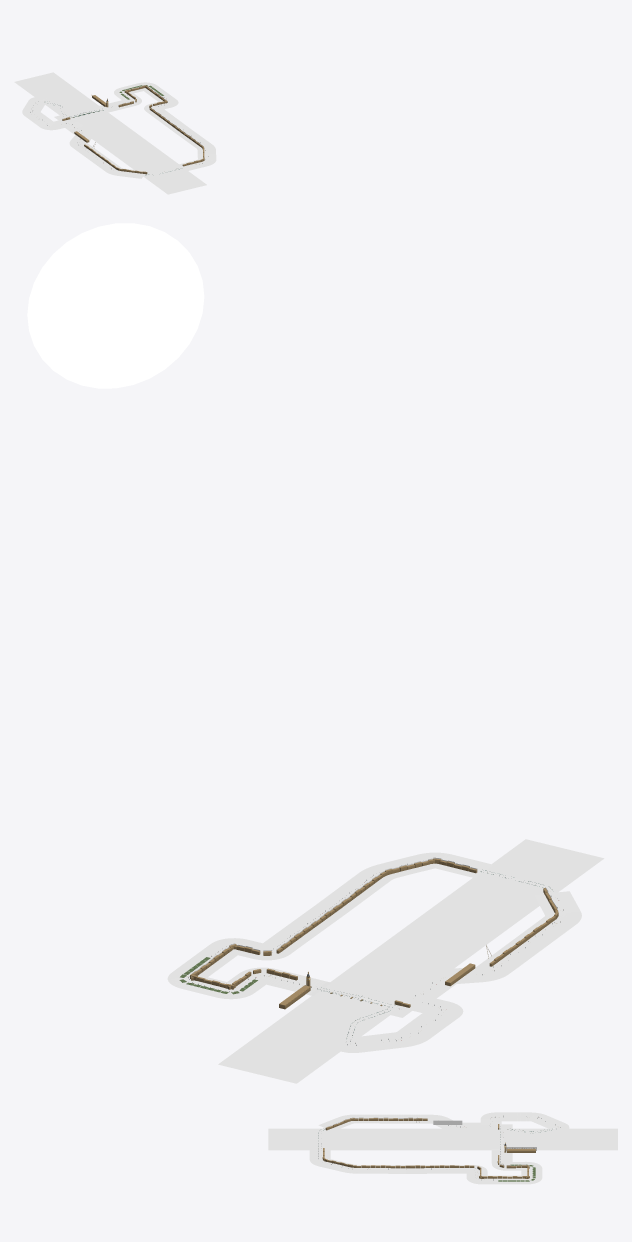
Rendered from westminster.glb.
3 renders of one model, top to bottom at view 1: azimuth 30°, elevation 25°; view 2: azimuth 150°, elevation 25°; view 3: azimuth 270°, elevation 25°, orthographic. The views are drawn at different scales.
Visible parts, largest first — view 1: ThamesWater_025, ThamesWater_014, ThamesWater_015, ThamesWater_001, ThamesWater_026, ThamesWater_020, ThamesWater_018, ThamesWater_021, Land_001; view 2: Sun, ThamesWater_025, ThamesWater_014, ThamesWater_015, ThamesWater_001, ThamesWater_026, ThamesWater_020, ThamesWater_018; view 3: ThamesWater_025, ThamesWater_014, ThamesWater_015, ThamesWater_026, ThamesWater_001, ThamesWater_020, ThamesWater_018, ThamesWater_021, Land_002, Land_001, Land_004, CountyHall (+25 smaller).
Boxes of the visible parts, x1,y1,x2,y2 form: ThamesWater_025: [14, 72, 76, 105]; ThamesWater_014: [145, 151, 206, 188]; ThamesWater_015: [143, 156, 190, 194]; ThamesWater_001: [74, 98, 124, 126]; ThamesWater_026: [47, 90, 85, 113]; ThamesWater_020: [92, 128, 134, 143]; ThamesWater_018: [107, 143, 147, 159]; ThamesWater_021: [80, 121, 126, 132]; Land_001: [119, 85, 167, 107]; Sun: [27, 223, 204, 388]; ThamesWater_025: [218, 1029, 361, 1083]; ThamesWater_014: [439, 839, 558, 917]; ThamesWater_015: [469, 847, 604, 914]; ThamesWater_001: [291, 957, 388, 1016]; ThamesWater_026: [266, 1009, 382, 1036]; ThamesWater_020: [377, 936, 465, 975]; ThamesWater_018: [423, 914, 508, 946]; ThamesWater_025: [544, 1128, 617, 1150]; ThamesWater_014: [268, 1141, 381, 1150]; ThamesWater_015: [268, 1128, 371, 1140]; ThamesWater_026: [514, 1128, 563, 1150]; ThamesWater_001: [450, 1137, 539, 1149]; ThamesWater_020: [411, 1128, 455, 1148]; ThamesWater_018: [376, 1128, 406, 1145]; ThamesWater_021: [445, 1131, 484, 1149]; Land_002: [356, 1165, 474, 1169]; Land_001: [477, 1164, 535, 1181]; Land_004: [326, 1118, 427, 1130]; CountyHall: [325, 1117, 529, 1166].
Size of the model in its own units: 4228 by 1668 by 4907.
